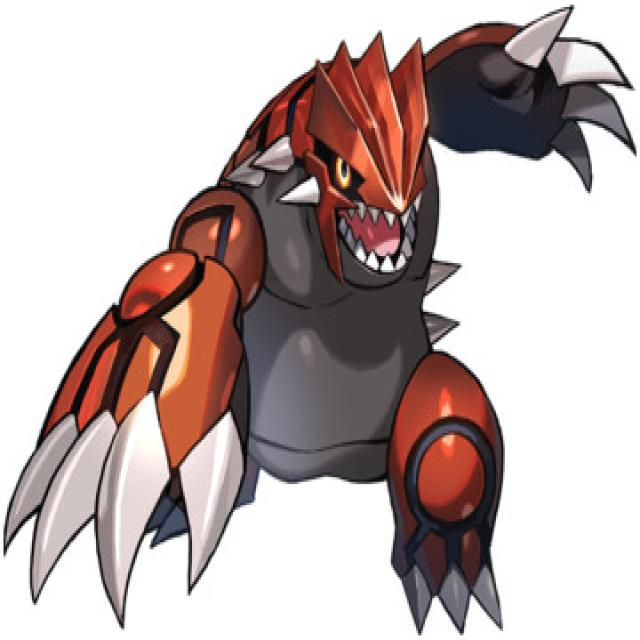Pokemon: (2, 2, 636, 633)
